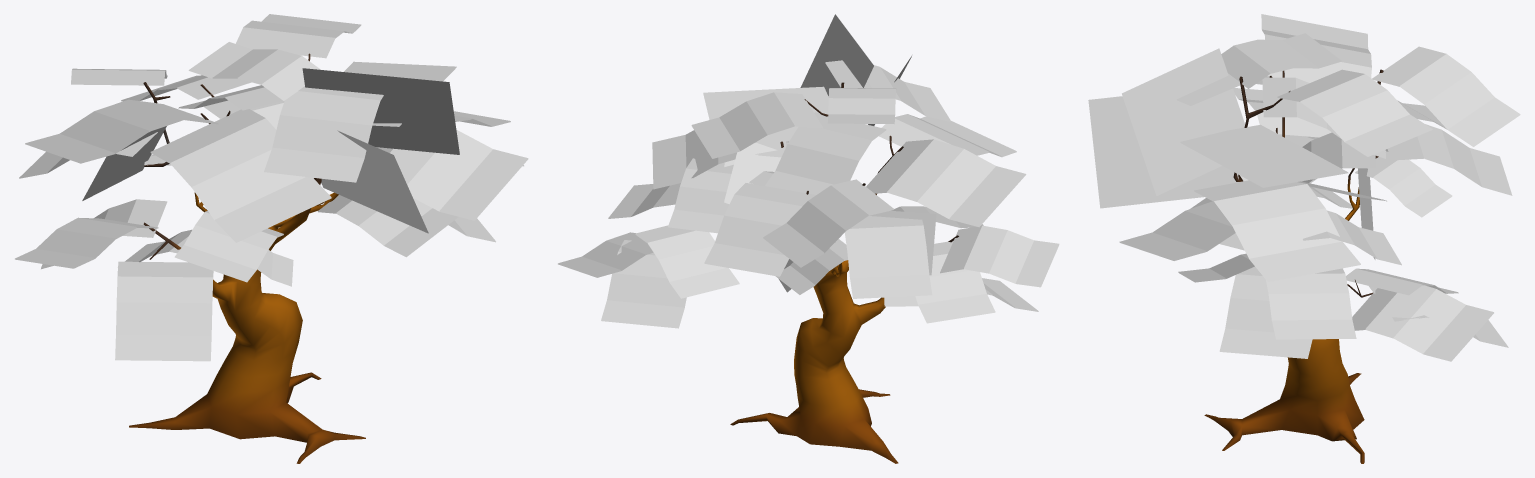
File: ArvoreTortinha+Folhas_TI4.fbx
3 views of the same model, side by side, from view 1: azimuth 30°, elevation 25°; view 2: azimuth 150°, elevation 25°; view 3: azimuth 270°, elevation 25° (orthographic). The views are drawn at different scales.
Visible parts, largest first — view 1: Folhas_Primavera, Arvore_Tortinha, Folhas_Verao; view 2: Folhas_Primavera, Arvore_Tortinha, Folhas_Verao; view 3: Folhas_Primavera, Arvore_Tortinha, Folhas_Verao.
Part boxes in pixels (bbox=[...]): Folhas_Primavera: bbox=[15, 14, 528, 360]; Arvore_Tortinha: bbox=[129, 53, 365, 463]; Folhas_Verao: bbox=[15, 25, 528, 361]; Folhas_Primavera: bbox=[558, 14, 1059, 327]; Arvore_Tortinha: bbox=[730, 82, 958, 463]; Folhas_Verao: bbox=[558, 56, 1058, 328]; Folhas_Primavera: bbox=[1088, 14, 1520, 360]; Arvore_Tortinha: bbox=[1204, 69, 1383, 463]; Folhas_Verao: bbox=[1100, 30, 1520, 361].
Size of the model in its own units: 595 by 447 by 470.
